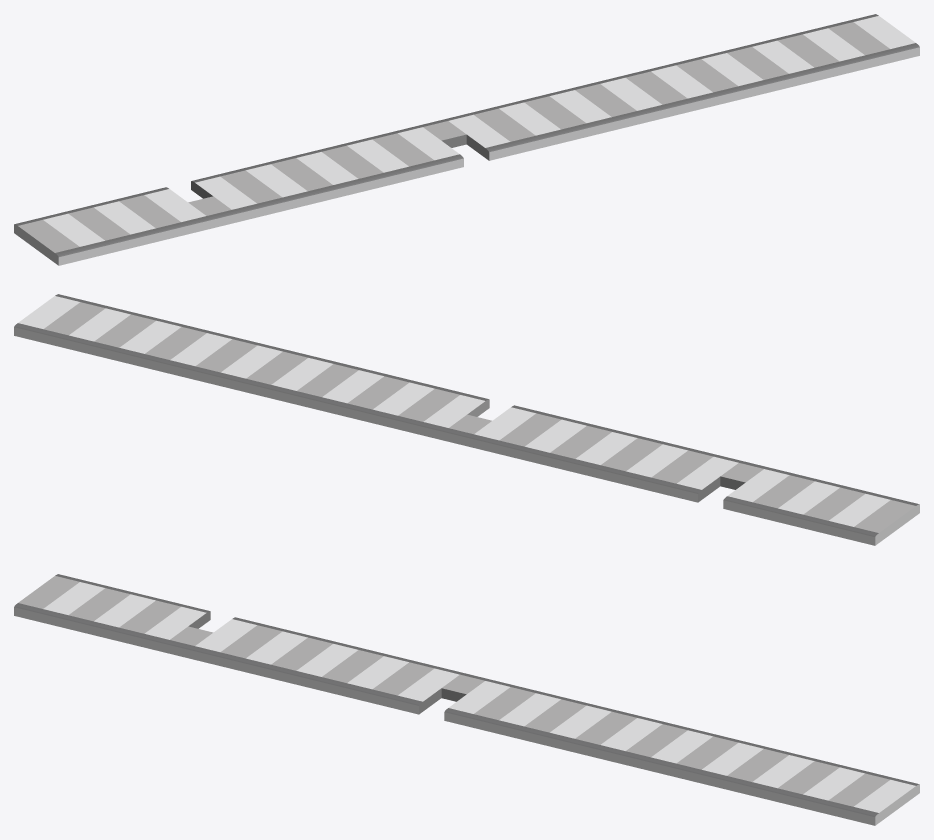
The model's file is track11.fbx.
3 renders of one model, top to bottom at view 1: azimuth 30°, elevation 25°; view 2: azimuth 150°, elevation 25°; view 3: azimuth 330°, elevation 25°, orthographic.
Visible parts, largest first — view 1: track.001; view 2: track.001; view 3: track.001.
Part boxes in pixels (left/top/right/bottom): track.001: left=14, top=14, right=919, bottom=265; track.001: left=14, top=294, right=919, bottom=545; track.001: left=14, top=574, right=919, bottom=825.
Bounding box in the file's own units: 4003 × 44.35 × 361.
Materials: 1 (1 with a texture image).
